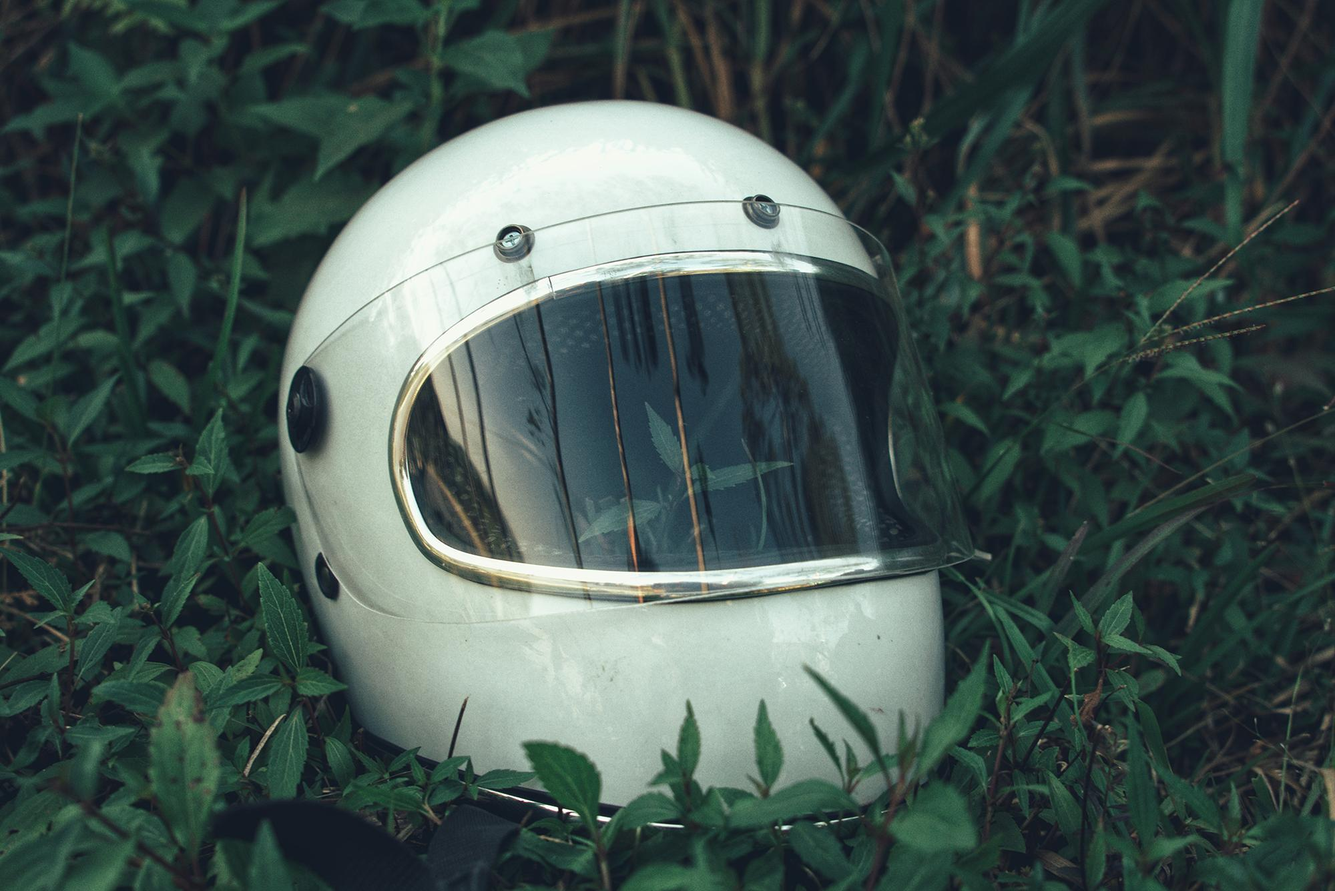helmet: (273, 94, 999, 862)
